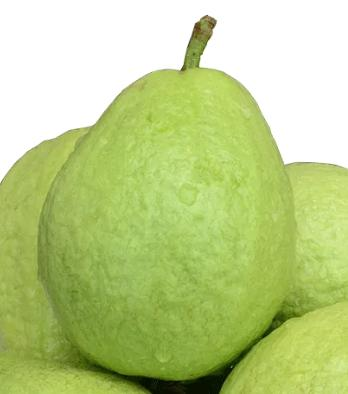guava_A: (36, 67, 296, 381)
